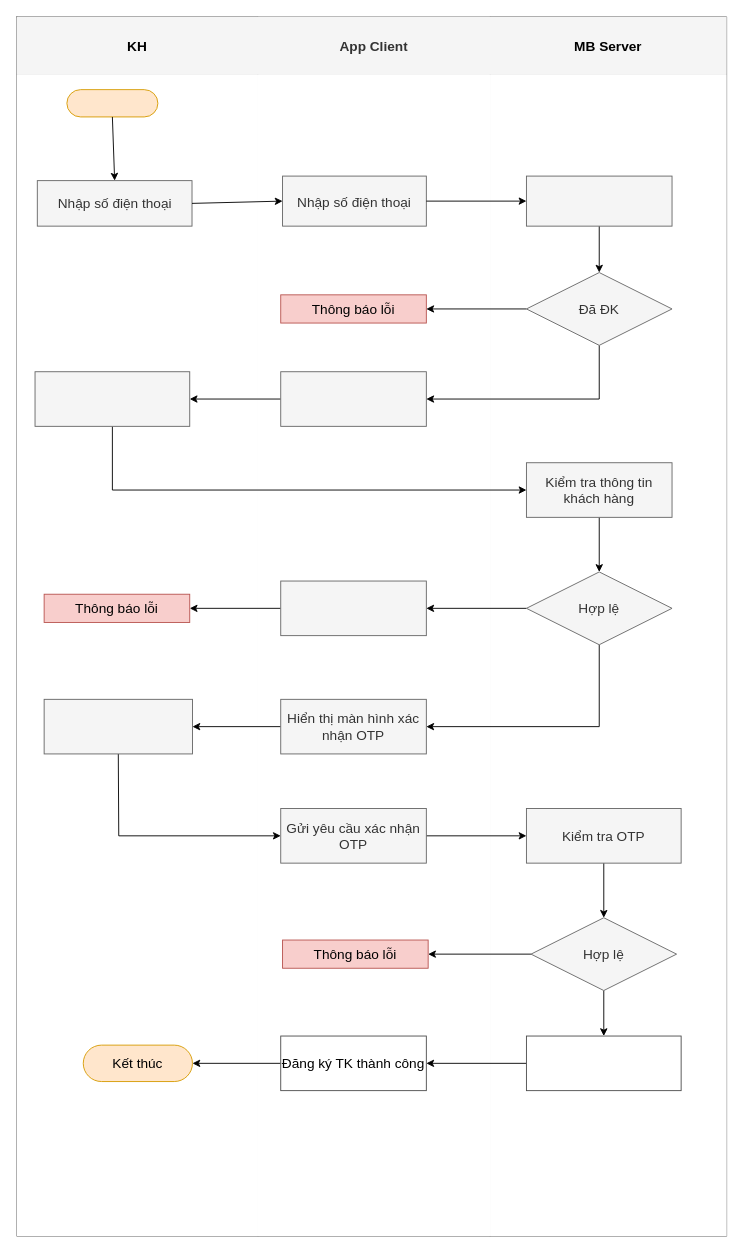
Image size: 743x1253. Some labels were removed from this diagram. Here are the shapes that lost their labels. From the top down, the centre of each, then its label:
At point (112, 103): "Bắt đầu".
At point (599, 200): "Kiểm tra số điện thoại đã đăng ký tài khoản chưa?".
At point (112, 398): "Thực hiện đăng ký tài khoản".
At point (353, 398): "Hiển thị màn hình đăng ký tài khoản mới".
At point (353, 608): "Kết quả lỗi".
At point (117, 726): "Nhập OTP và nhấn Tiếp tục".
At point (603, 1063): "Trả kết quả".
